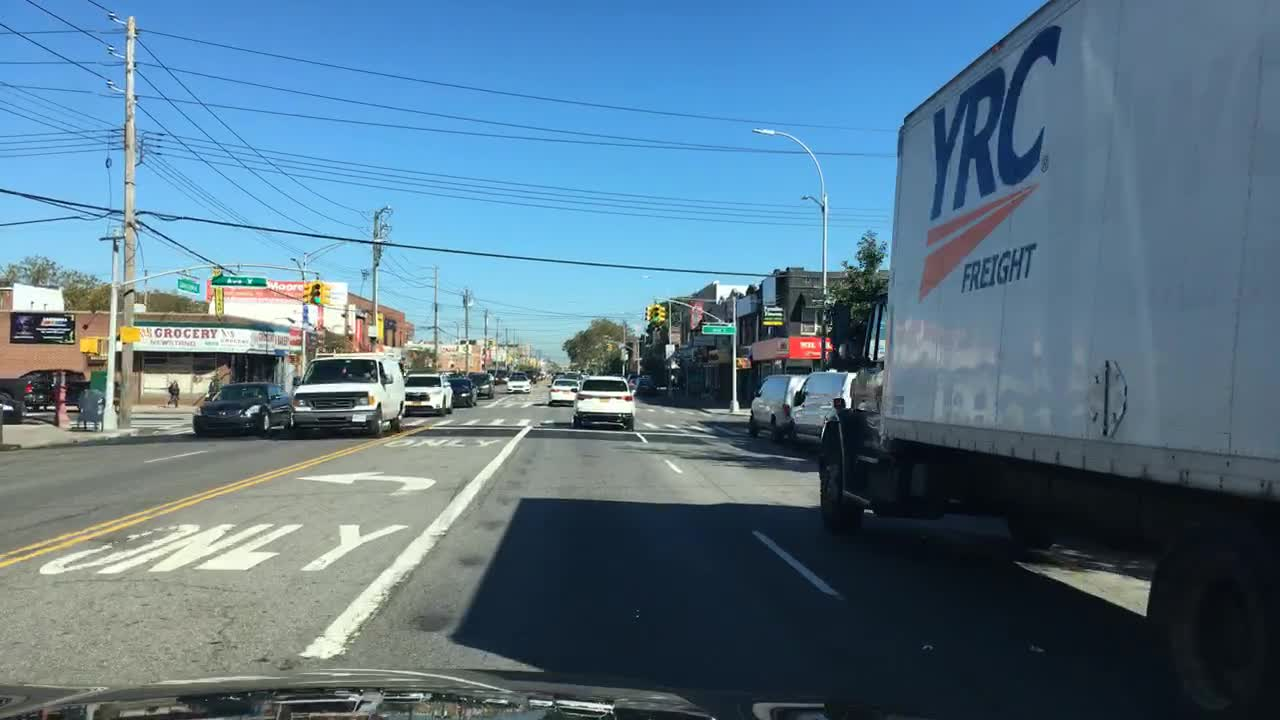car: (289, 349, 407, 440), (786, 365, 858, 463), (190, 381, 293, 443), (745, 372, 811, 446), (569, 373, 638, 433), (15, 366, 88, 410), (401, 372, 453, 417), (546, 375, 577, 408), (446, 376, 477, 408), (0, 388, 26, 424), (467, 370, 495, 399), (624, 372, 654, 398), (563, 371, 586, 381), (548, 371, 563, 384)
person: (166, 378, 179, 406)
traffic light: (77, 335, 101, 356), (117, 327, 140, 341), (301, 280, 311, 302), (321, 283, 330, 306), (735, 358, 751, 370), (643, 305, 652, 322), (313, 282, 319, 304), (652, 304, 658, 324), (658, 308, 665, 322), (606, 342, 611, 352)
traffic sign: (211, 274, 266, 288), (699, 325, 735, 334), (177, 280, 198, 293), (666, 344, 676, 360)
truck: (815, 0, 1277, 715)
